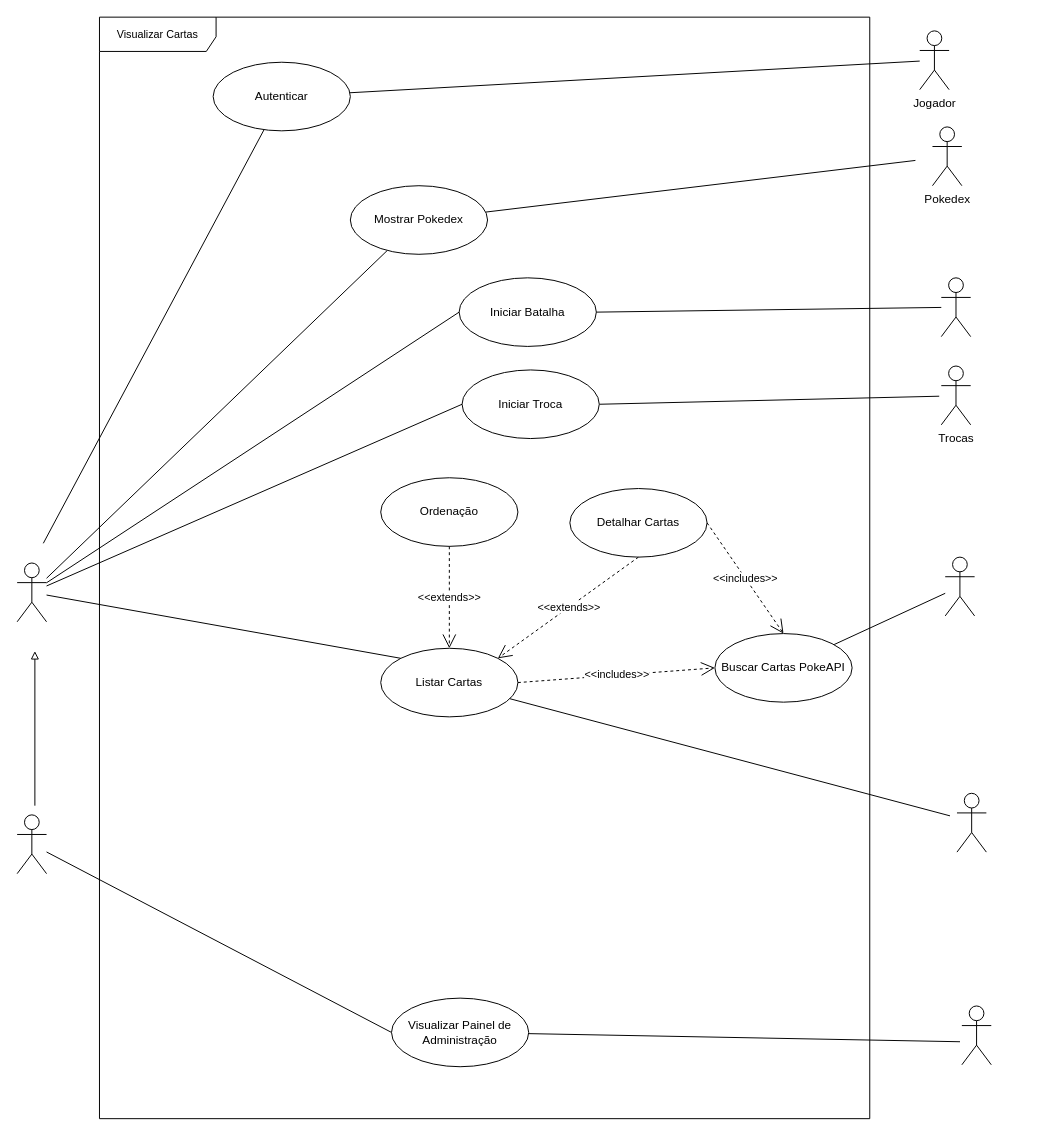
Image size: 1056x1136. Some labels were removed from this diagram. The centre of each missing label's shape, as x and y in pixels:
"ADM" goes at point (31, 844).
"Batalhas" goes at point (955, 307).
"Distribuição de Cartas" goes at point (971, 822).
"Painel de Administração" goes at point (976, 1035).
"PokeAPI" goes at point (959, 586).
"User" goes at point (31, 592).
